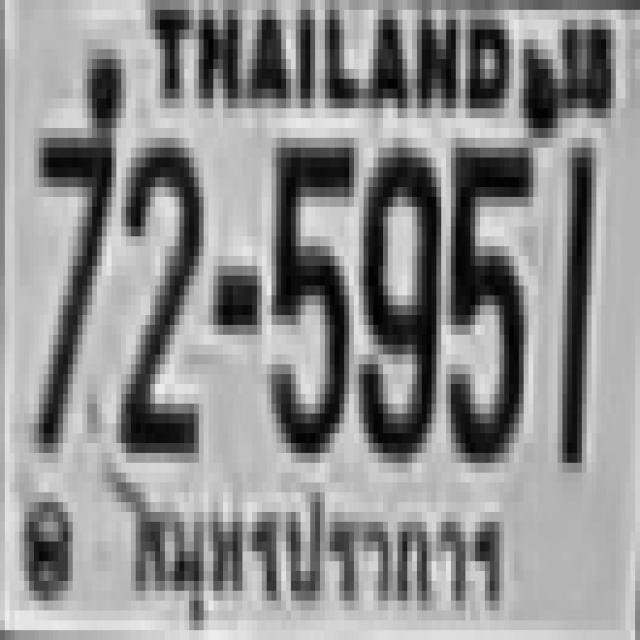1: (558, 138, 592, 463), (558, 143, 586, 458)
2: (116, 128, 199, 443)
5: (446, 138, 529, 453), (267, 133, 349, 448)
7: (31, 99, 114, 443)
9: (354, 138, 436, 453)
SamutPrakan: (128, 477, 512, 640)
